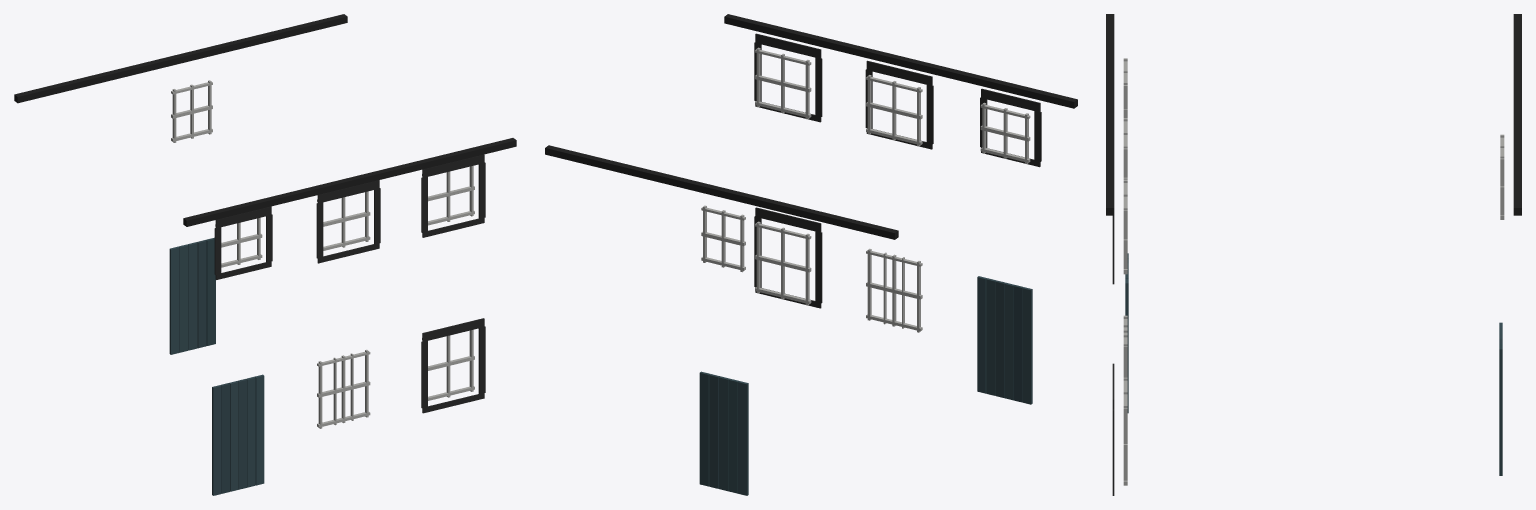
Rendered from SM_Bld_193_Wood.glb.
3 renders of one model, left to right at view 1: azimuth 30°, elevation 25°; view 2: azimuth 150°, elevation 25°; view 3: azimuth 270°, elevation 25°, orthographic. The views are drawn at different scales.
Visible parts, largest first — view 1: SM_Bld_193_Wood; view 2: SM_Bld_193_Wood; view 3: SM_Bld_193_Wood.
Part boxes in pixels (left/top/right/bottom): SM_Bld_193_Wood: left=14, top=14, right=516, bottom=495; SM_Bld_193_Wood: left=545, top=14, right=1077, bottom=495; SM_Bld_193_Wood: left=1106, top=14, right=1521, bottom=495.
Bounding box in the file's own units: 6.56 × 5.5 × 5.94.
